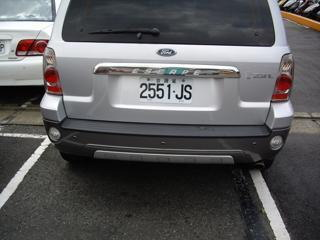plate: (138, 76, 194, 105)
